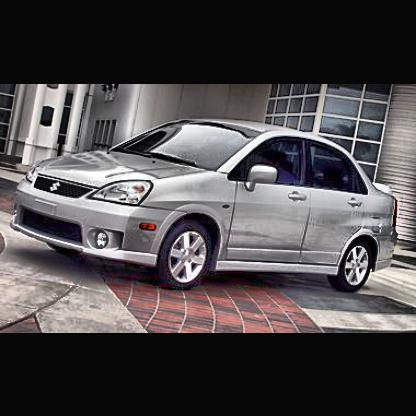Suzuki Aerio Sedan 2007: (12, 116, 402, 292)
